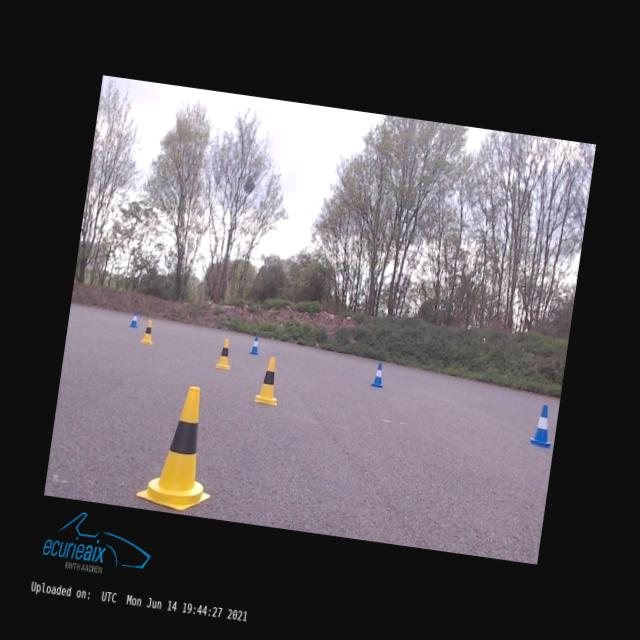blue_cone: (527, 404, 558, 449), (371, 362, 386, 388), (250, 335, 262, 355), (129, 310, 140, 328)
yellow_cone: (135, 381, 225, 514), (254, 355, 284, 406), (214, 337, 235, 370), (140, 318, 156, 344)
